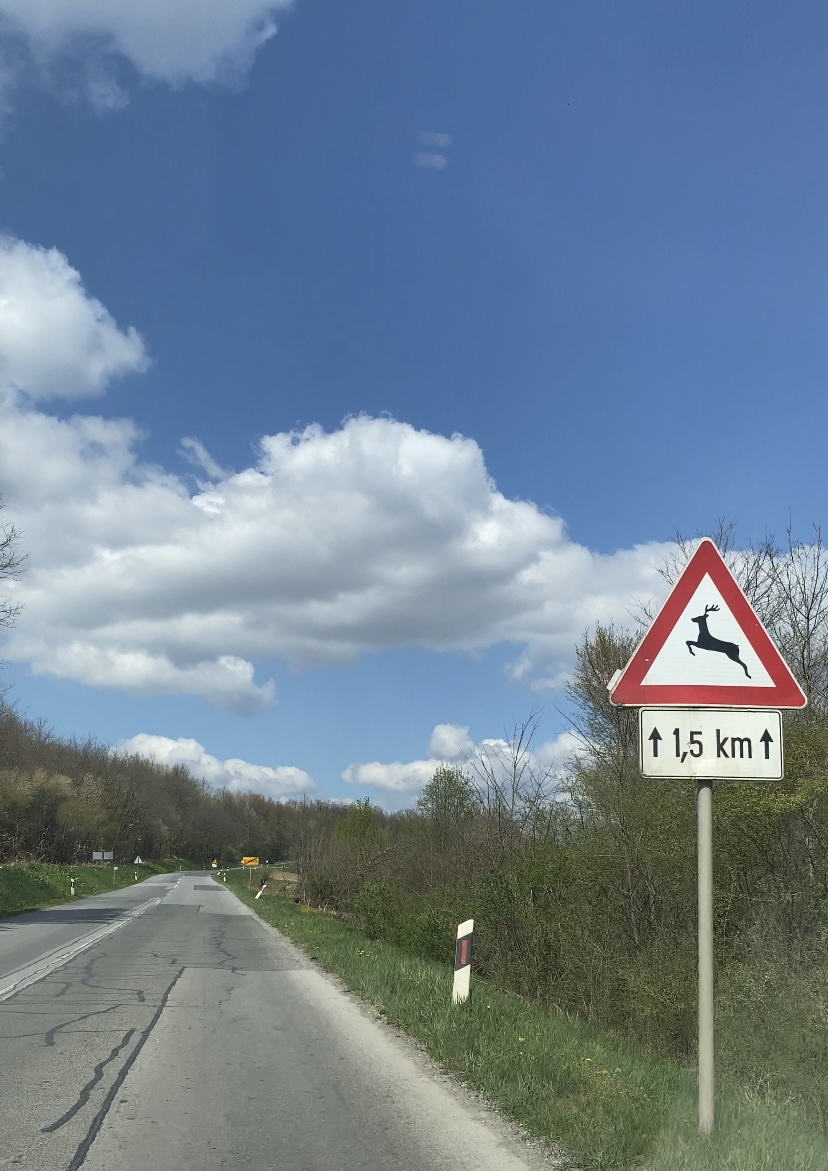Divljač na cesti: (609, 538, 808, 709)
